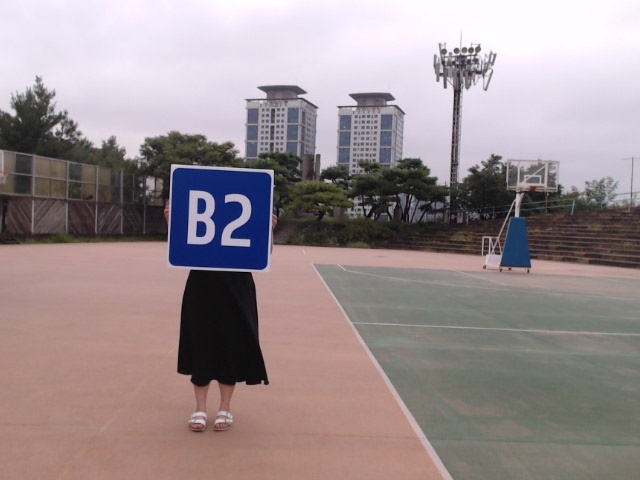delivery_b2: (166, 168, 272, 271)
